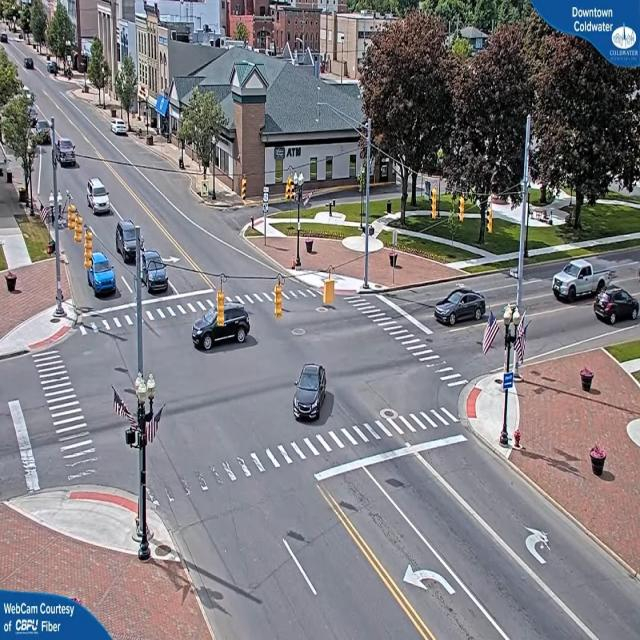car: (191, 295, 253, 352), (552, 260, 606, 304), (432, 287, 488, 328), (292, 364, 330, 422), (594, 284, 639, 324), (86, 252, 118, 296), (142, 250, 171, 293), (115, 221, 143, 261), (86, 178, 112, 216), (54, 137, 78, 168), (112, 120, 129, 136)
